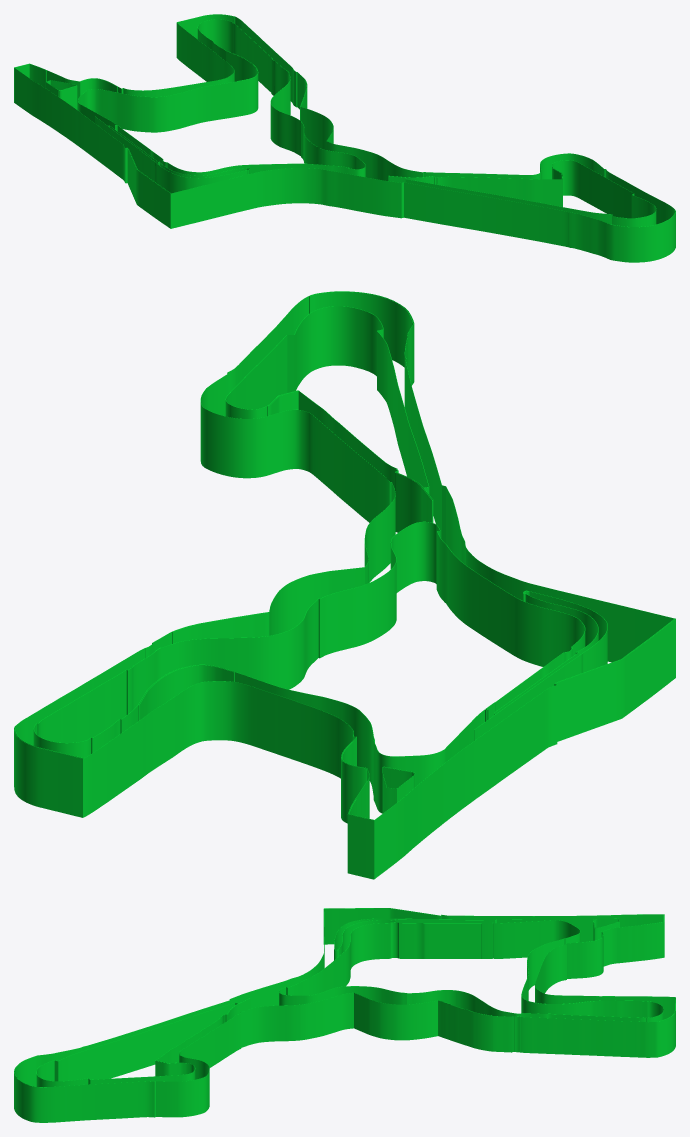
Rendered from GREENWOOD_COLLIDERS.fbx.
3 views of the same model, one above another, from view 1: azimuth 30°, elevation 25°; view 2: azimuth 150°, elevation 25°; view 3: azimuth 270°, elevation 25° (orthographic). The views are drawn at different scales.
Visible parts, largest first — view 1: 1WALL_04, 1WALL_05, 1WALL_12, 1WALL_17, 1WALL_06, 1WALL_07, 1WALL_00, 1WALL_01; view 2: 1WALL_04, 1WALL_05, 1WALL_12, 1WALL_17, 1WALL_14, 1WALL_06, 1WALL_10, 1WALL_11, 1WALL_03; view 3: 1WALL_04, 1WALL_05, 1WALL_12, 1WALL_15, 1WALL_17, 1WALL_14, 1WALL_03.
Part boxes in pixels (<box>): 1WALL_04: <box>14,14,675,262</box>; 1WALL_05: <box>77,19,365,177</box>; 1WALL_12: <box>388,160,656,226</box>; 1WALL_17: <box>95,116,249,193</box>; 1WALL_06: <box>225,50,257,81</box>; 1WALL_07: <box>177,14,234,38</box>; 1WALL_00: <box>15,64,46,88</box>; 1WALL_01: <box>80,78,117,96</box>; 1WALL_04: <box>14,291,675,879</box>; 1WALL_05: <box>33,521,585,813</box>; 1WALL_12: <box>225,306,433,522</box>; 1WALL_17: <box>474,591,607,740</box>; 1WALL_14: <box>309,291,413,367</box>; 1WALL_06: <box>138,665,234,721</box>; 1WALL_10: <box>172,612,267,643</box>; 1WALL_11: <box>395,472,432,532</box>; 1WALL_03: <box>382,767,414,813</box>; 1WALL_04: <box>14,908,675,1122</box>; 1WALL_05: <box>279,920,663,1021</box>; 1WALL_12: <box>36,998,249,1087</box>; 1WALL_15: <box>323,908,440,944</box>; 1WALL_17: <box>334,918,522,955</box>; 1WALL_14: <box>14,1056,37,1086</box>; 1WALL_03: <box>593,918,619,940</box>.
Size of the model in its own units: 48291 by 4486 by 75418.
